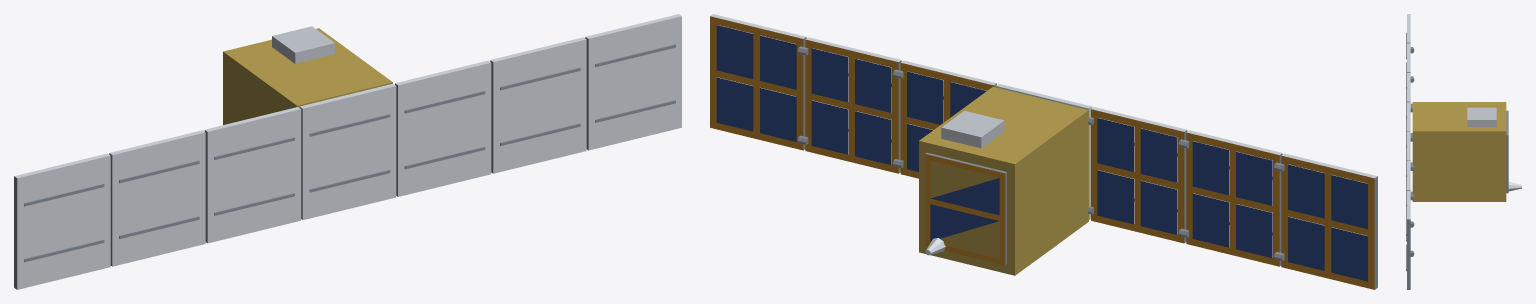
File: strix.glb
3 renders of one model, left to right at view 1: azimuth 30°, elevation 25°; view 2: azimuth 150°, elevation 25°; view 3: azimuth 270°, elevation 25°, orthographic. The views are drawn at different scales.
Visible parts, largest first — view 1: body, foil; view 2: solar-panel, body, foil; view 3: foil, body, solar-panel.
Boxes of the visible parts, box(x1,y1,x2,y2) form: body: box(14, 14, 681, 289); foil: box(223, 28, 392, 124); solar-panel: box(716, 25, 1367, 281); body: box(710, 14, 1377, 289); foil: box(919, 87, 1088, 275); foil: box(1412, 102, 1506, 201); body: box(1406, 14, 1521, 289); solar-panel: box(1506, 110, 1508, 193).
Bounding box in the file's own units: 4.99 × 0.9598 × 1.19.
